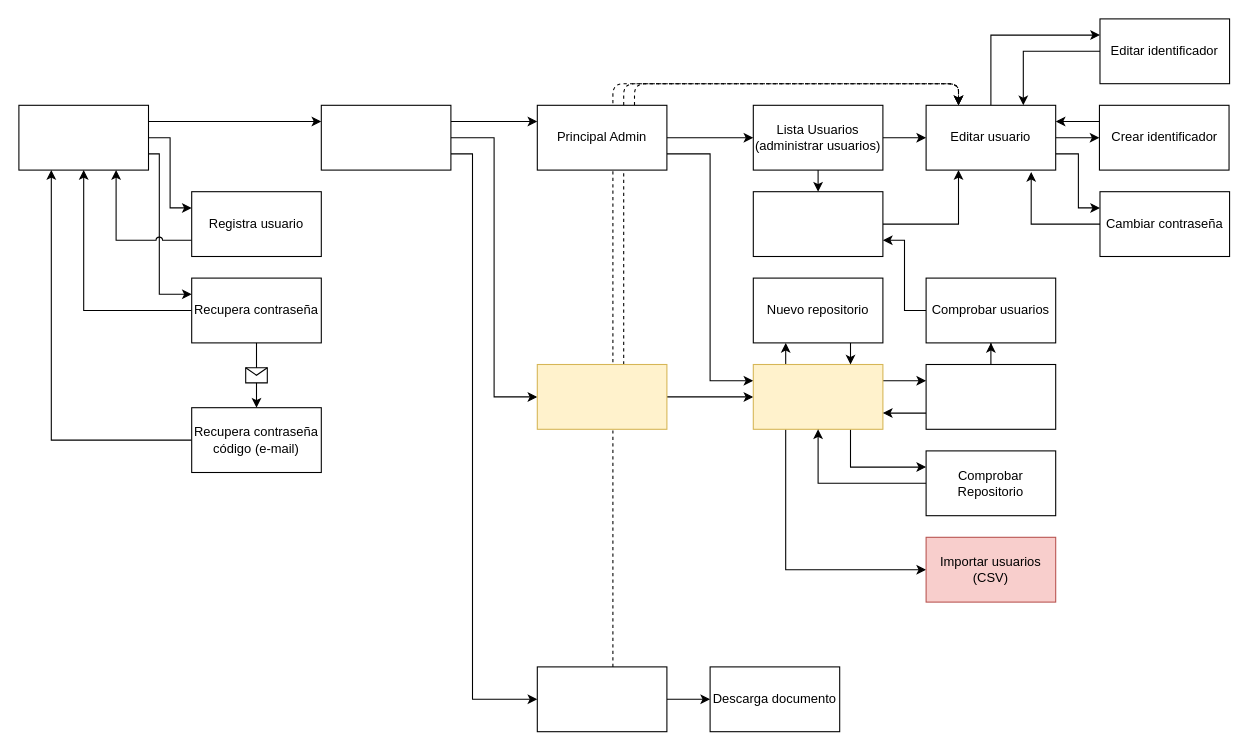
Some shapes in this 1248 by 751 pixel diagram are drawn without their labels. Each missing label, with the centre of its shape:
"Editar repositorio" belongs at point 990,396.
"Lista Repositorios (admin. repositorios)" belongs at point 817,396.
"Login" belongs at point 83,137.
"Nuevo usuario" belongs at point 817,223.
"Principal" belongs at point 385,137.
"Principal RepoAdmin" belongs at point 601,396.
"Principal User (listado documentos)" belongs at point 601,699.
